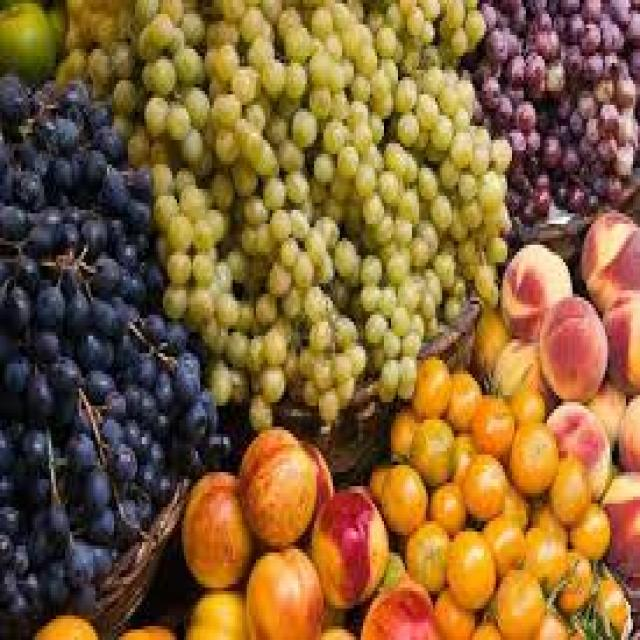organic waste: (0, 66, 230, 461), (221, 0, 440, 402), (107, 0, 291, 427), (198, 0, 365, 423), (344, 0, 507, 311), (0, 420, 121, 616), (470, 0, 563, 231), (554, 0, 638, 199), (308, 483, 387, 605), (238, 423, 314, 549), (93, 423, 175, 539), (180, 469, 252, 584), (240, 538, 321, 636), (535, 294, 605, 398), (51, 0, 132, 87), (498, 238, 570, 332), (577, 206, 638, 312), (544, 395, 608, 490), (358, 577, 433, 637), (600, 283, 638, 388), (294, 437, 330, 546), (0, 0, 54, 70), (600, 472, 638, 567), (505, 420, 554, 493), (182, 584, 249, 637), (447, 525, 491, 605), (405, 412, 454, 482), (474, 507, 524, 574), (491, 566, 538, 636), (487, 336, 542, 395), (377, 458, 421, 528), (402, 518, 444, 591), (584, 560, 624, 636), (524, 521, 566, 591), (589, 367, 626, 444), (465, 395, 512, 455), (542, 454, 586, 518), (461, 451, 505, 514), (474, 304, 510, 371), (444, 367, 480, 434), (566, 500, 608, 556), (549, 549, 591, 605), (412, 350, 447, 416), (426, 476, 463, 535), (363, 542, 403, 595), (433, 584, 472, 637), (614, 388, 638, 469), (505, 371, 542, 423), (30, 608, 93, 636), (524, 497, 563, 542), (386, 406, 419, 454), (498, 472, 524, 528), (449, 430, 473, 486), (46, 0, 70, 49), (570, 612, 617, 637), (363, 458, 396, 493), (114, 619, 177, 637), (538, 602, 570, 636), (470, 612, 500, 637), (621, 567, 638, 605)
